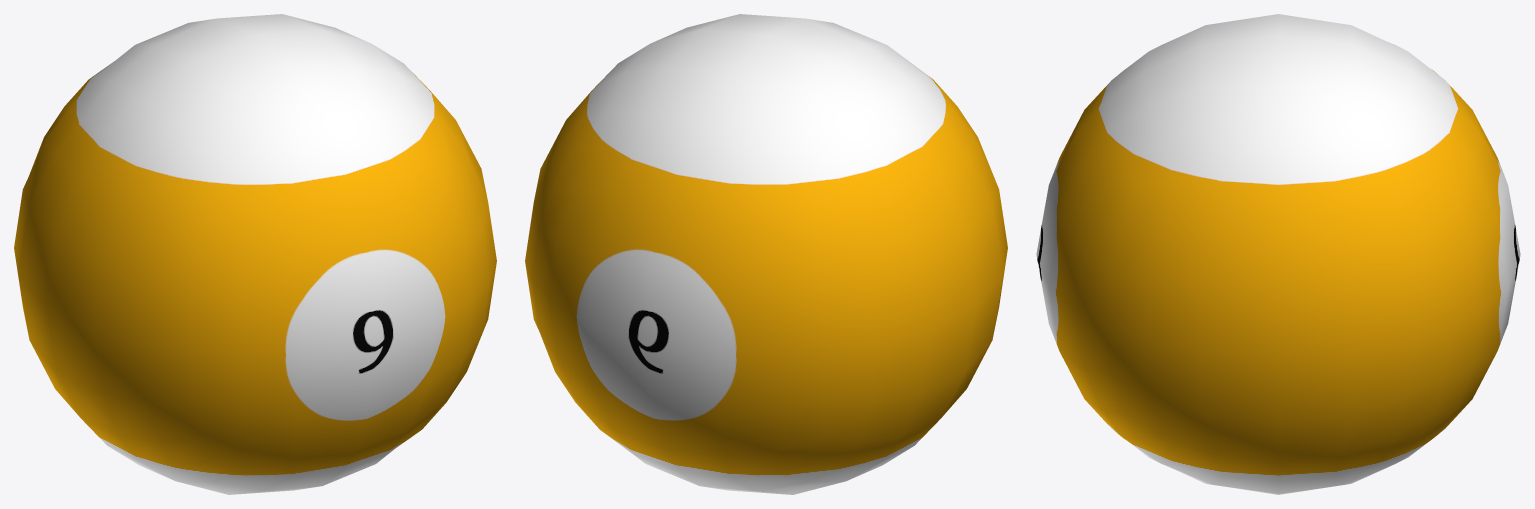
The model's file is pool_ball_mapped.fbx.
3 renders of one model, left to right at view 1: azimuth 30°, elevation 25°; view 2: azimuth 150°, elevation 25°; view 3: azimuth 270°, elevation 25°, orthographic.
Parts seen in each view (by area): view 1: PoolPall_Mapped; view 2: PoolPall_Mapped; view 3: PoolPall_Mapped.
Part boxes in pixels (bbox=[...]): PoolPall_Mapped: bbox=[14, 14, 496, 494]; PoolPall_Mapped: bbox=[525, 14, 1007, 494]; PoolPall_Mapped: bbox=[1036, 14, 1520, 494].
Size of the model in its own units: 5.72 by 5.72 by 5.72.
